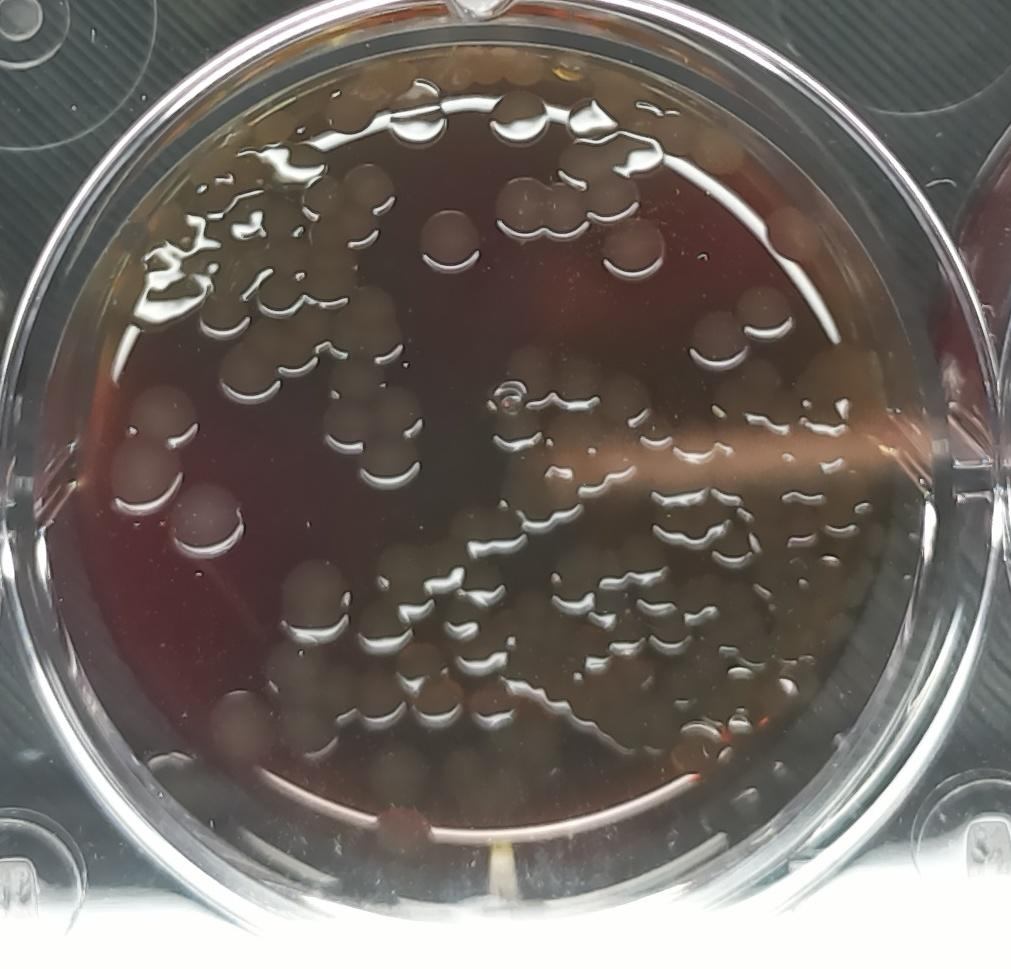vangil: (323, 358, 433, 496), (106, 383, 201, 519), (273, 556, 360, 638), (164, 476, 246, 561), (489, 172, 588, 242), (207, 681, 281, 765), (599, 213, 670, 287), (416, 205, 486, 276), (213, 339, 285, 406), (684, 305, 749, 369), (733, 281, 795, 345), (337, 160, 398, 220)
